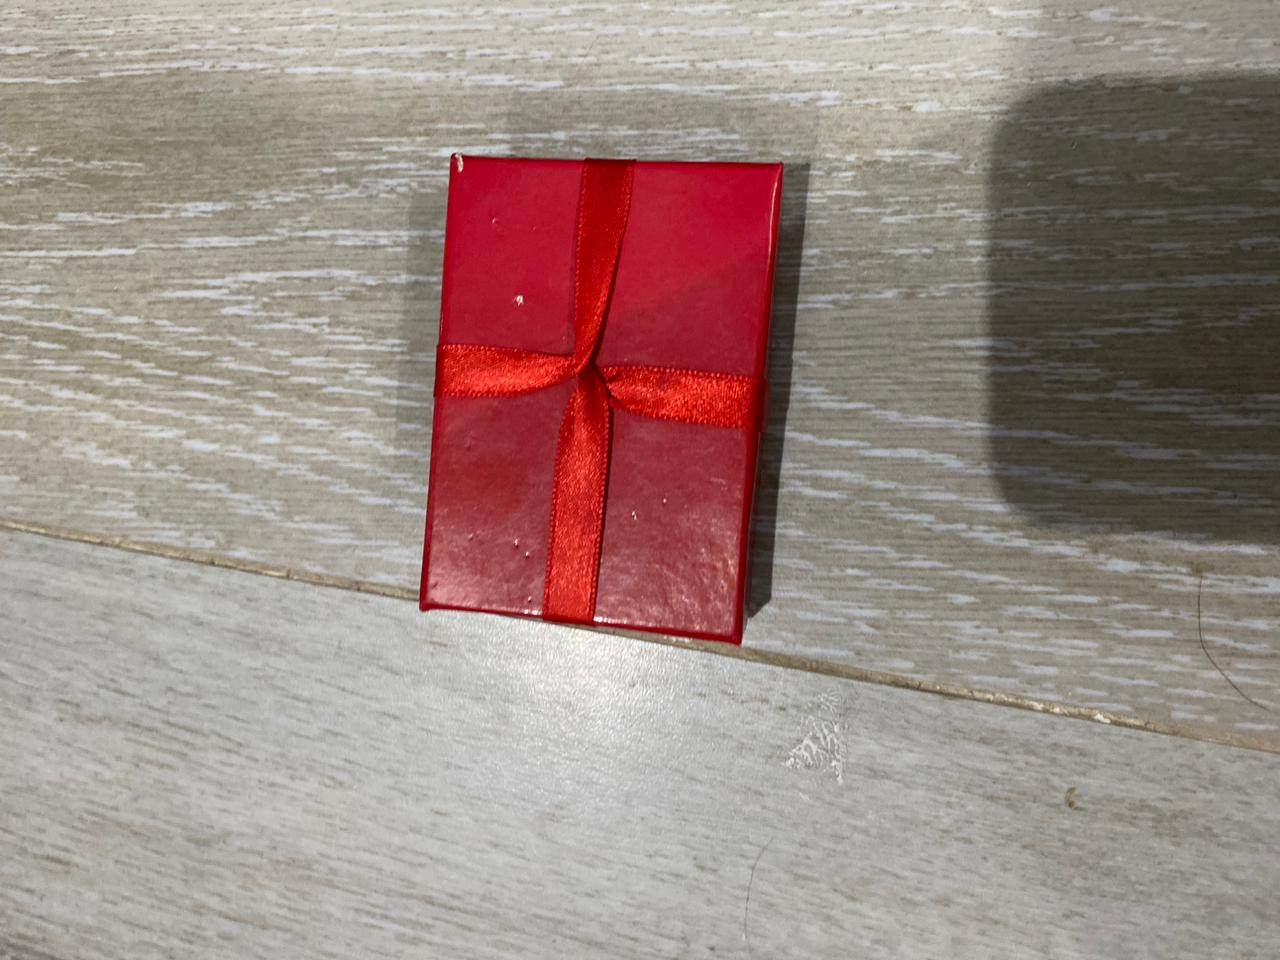Black Box: (413, 143, 791, 650)
